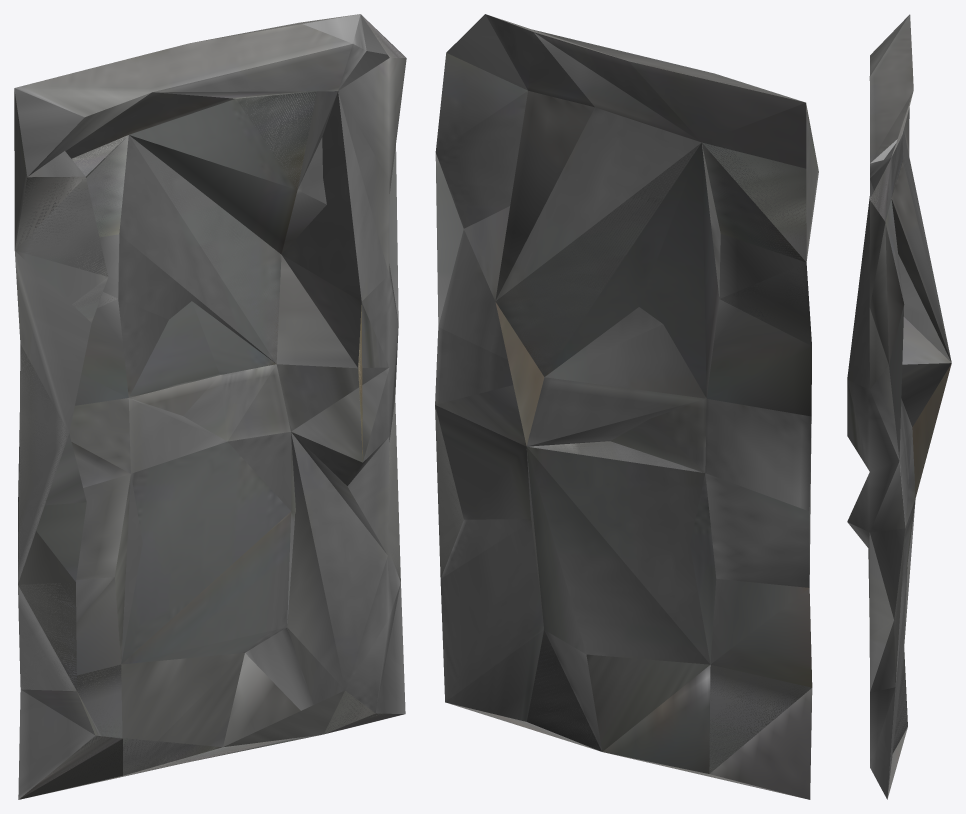
The model's file is imperial_governor_palace__entrance_door_leaf_lod2.glb.
3 views of the same model, side by side, from view 1: azimuth 30°, elevation 25°; view 2: azimuth 150°, elevation 25°; view 3: azimuth 270°, elevation 25° (orthographic). The views are drawn at different scales.
Visible parts, largest first — view 1: mesh_node; view 2: mesh_node; view 3: mesh_node.
Part boxes in pixels (<box>): mesh_node: <box>14,14,406,799</box>; mesh_node: <box>435,14,818,799</box>; mesh_node: <box>847,14,951,799</box>.
Size of the model in its own units: 2.08 by 3.72 by 0.5656.
1 material, 1 textured.
